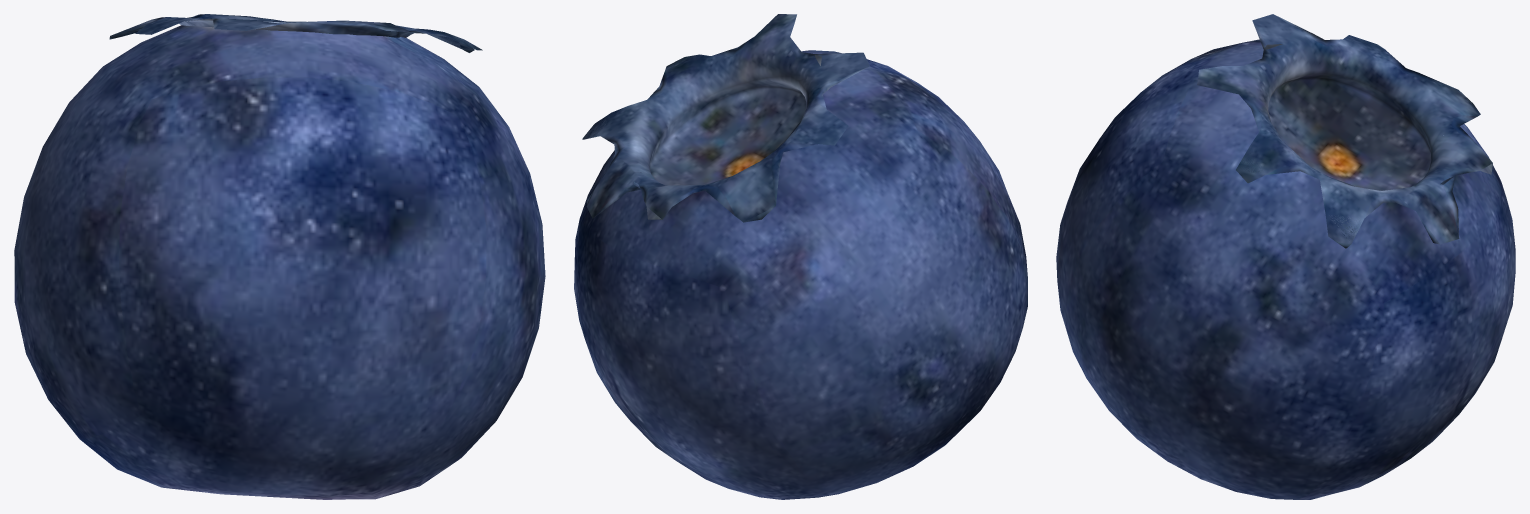
The model's file is blueberry.glb.
3 views of the same model, side by side, from view 1: azimuth 30°, elevation 25°; view 2: azimuth 150°, elevation 25°; view 3: azimuth 270°, elevation 25° (orthographic). The views are drawn at different scales.
Parts seen in each view (by area): view 1: blueberry.002; view 2: blueberry.002; view 3: blueberry.002.
Part boxes in pixels (left/top/right/bottom): blueberry.002: left=14, top=14, right=545, bottom=499; blueberry.002: left=574, top=14, right=1027, bottom=499; blueberry.002: left=1056, top=14, right=1515, bottom=499.
Bounding box in the file's own units: 0.0093 × 0.00954 × 0.00933.
Materials: 1 (1 with a texture image).
